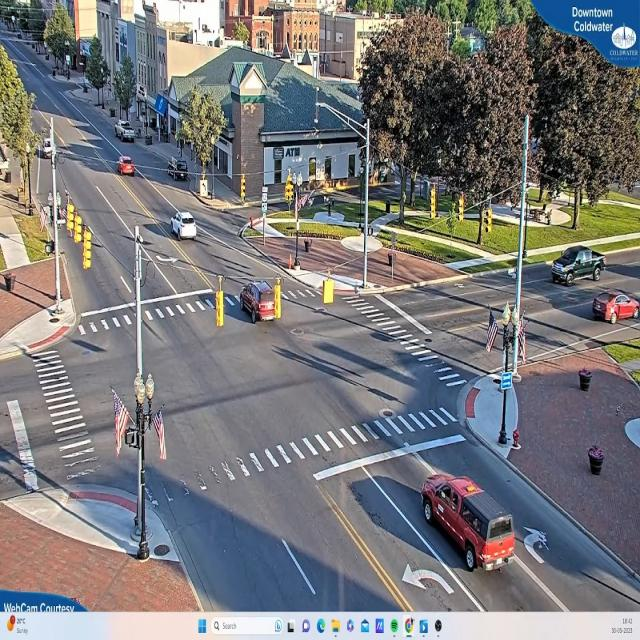car: (417, 472, 516, 575), (552, 246, 606, 283), (591, 291, 640, 324), (240, 281, 278, 322), (169, 211, 197, 241), (117, 123, 137, 144), (119, 156, 136, 176)
